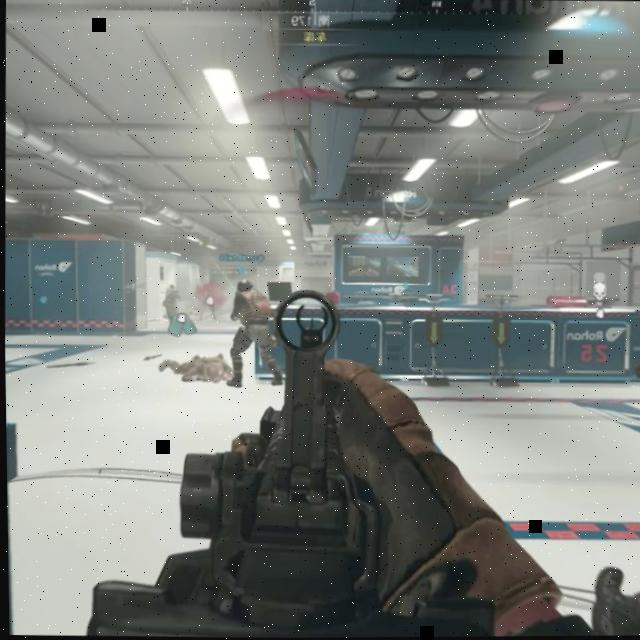MW2_body: (161, 283, 182, 317)
